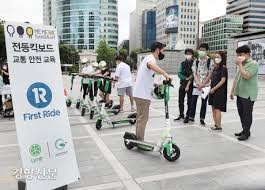kick_wheel: (163, 143, 179, 161), (96, 118, 101, 127)
